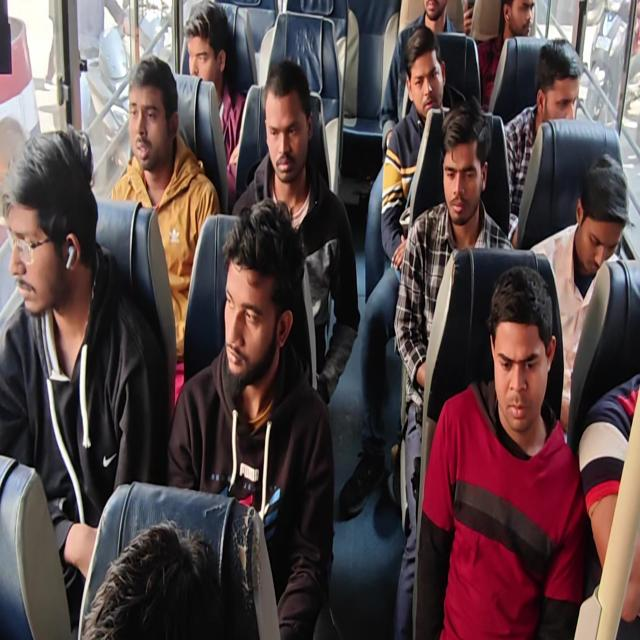person: (1, 1, 638, 638), (0, 124, 156, 636), (166, 197, 336, 638), (392, 97, 515, 638), (412, 264, 588, 638), (338, 25, 454, 519), (230, 58, 360, 406), (110, 54, 220, 405), (529, 152, 629, 435), (380, 25, 452, 272), (80, 519, 226, 639), (503, 38, 582, 246), (578, 372, 640, 628), (379, 0, 466, 155), (183, 1, 246, 207), (469, 0, 535, 112)
